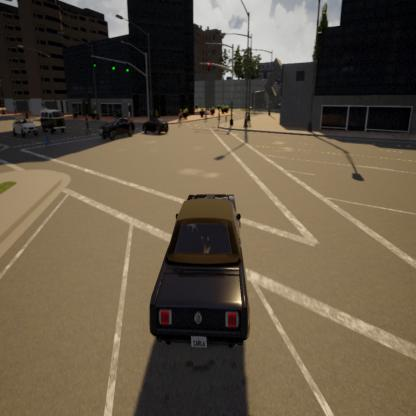Cars: (145, 175, 261, 355), (100, 113, 138, 150), (141, 114, 173, 144), (38, 106, 66, 137), (12, 108, 38, 140)
Pedestrian: (83, 111, 93, 140), (42, 126, 52, 151), (176, 106, 184, 132), (217, 110, 221, 128)
